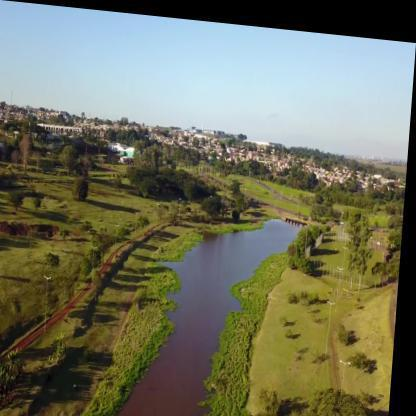agua: (159, 243, 214, 415), (212, 217, 256, 305)
